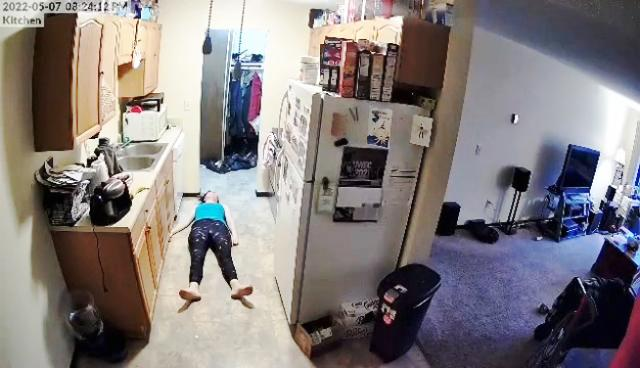jatuh: (165, 190, 259, 312)
